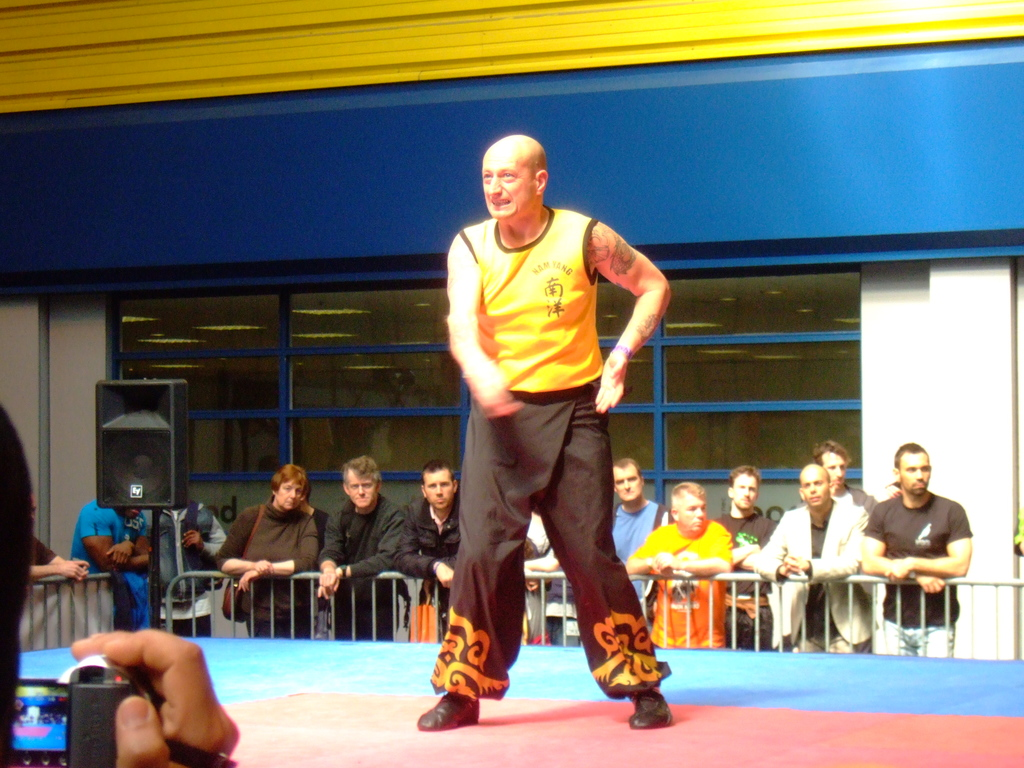Person: (25, 439, 974, 659)
